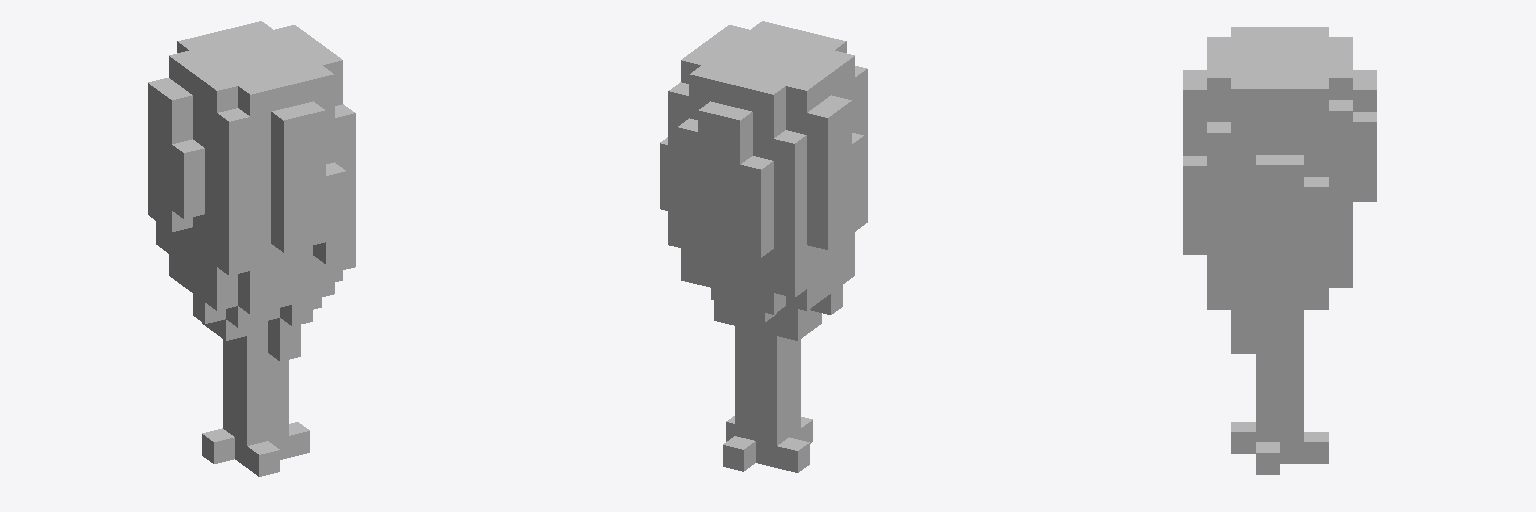
File: Tree1.obj
3 views of the same model, side by side, from view 1: azimuth 30°, elevation 25°; view 2: azimuth 150°, elevation 25°; view 3: azimuth 270°, elevation 25° (orthographic).
Parts seen in each view (by area): view 1: Tree1; view 2: Tree1; view 3: Tree1.
Part boxes in pixels (x1,y1,x2,y2): Tree1: (148,21,355,476); Tree1: (660,21,867,472); Tree1: (1183,27,1376,474).
Bounding box in the file's own units: 8 × 18 × 8.